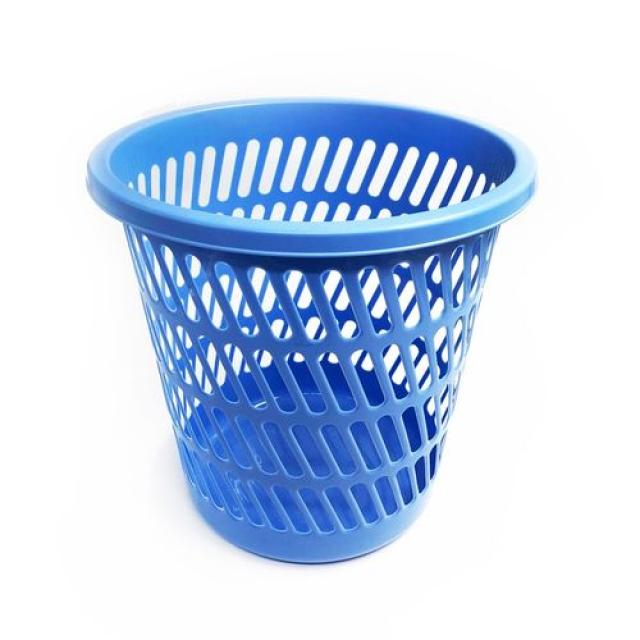dustbin: (80, 89, 550, 567)
